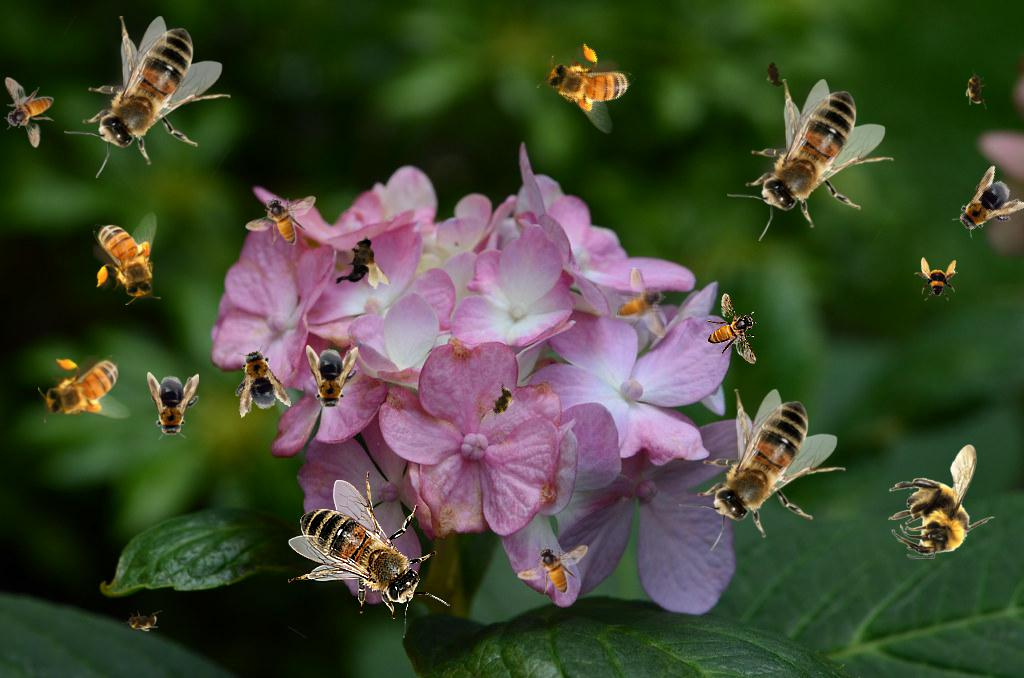Bee: (727, 79, 894, 241), (679, 389, 846, 551), (288, 471, 450, 638), (64, 16, 231, 178), (531, 29, 647, 140), (888, 444, 995, 559), (943, 164, 1024, 250), (38, 355, 131, 423), (93, 212, 161, 305), (224, 340, 292, 420), (707, 293, 757, 364), (616, 267, 666, 338), (4, 77, 54, 148), (517, 544, 588, 594), (245, 195, 316, 245), (306, 345, 358, 413), (147, 372, 199, 440), (329, 236, 391, 289), (914, 257, 958, 301), (482, 379, 522, 425), (759, 51, 791, 97), (122, 610, 162, 632), (965, 69, 987, 109)
